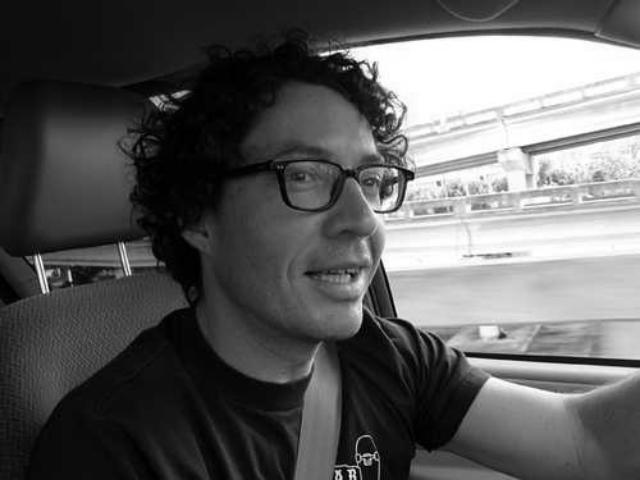SafeDriving: (280, 161, 332, 194)
Seatbelt: (288, 334, 350, 480)
